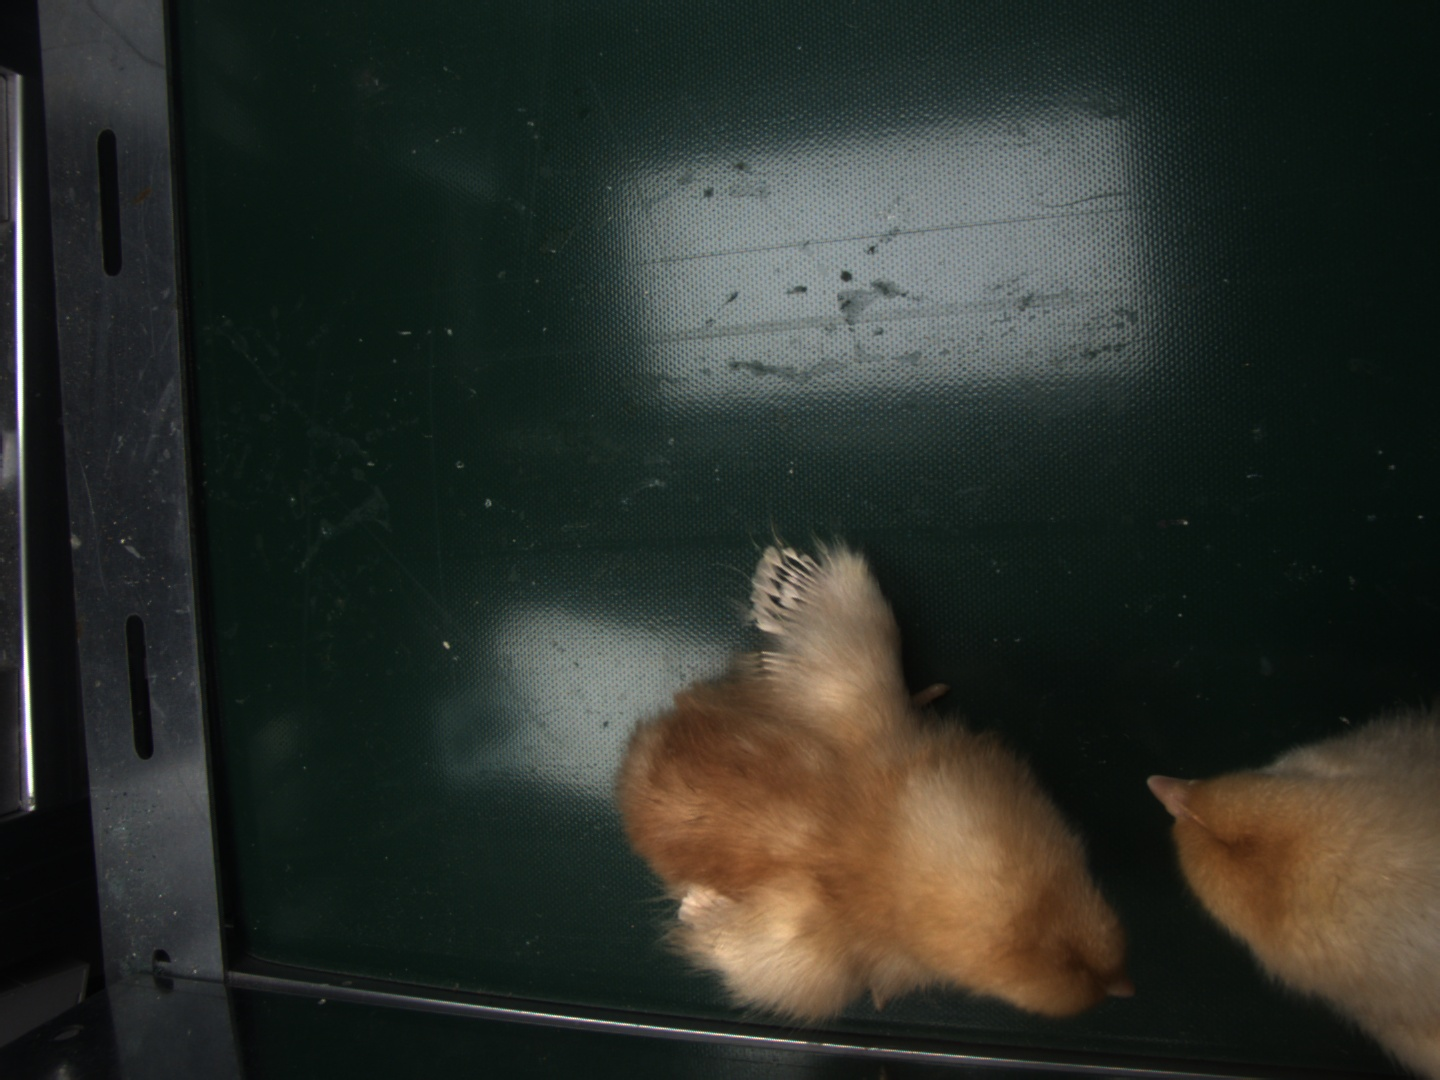female: (747, 547, 829, 634)
